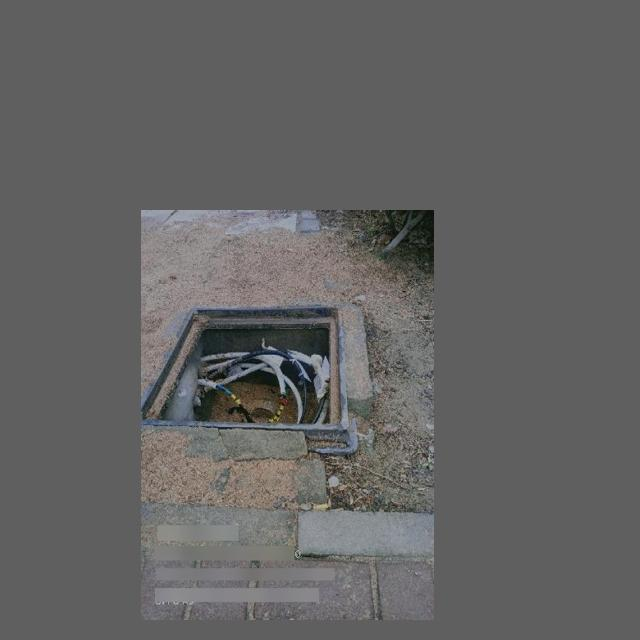lose: (143, 303, 347, 437)
